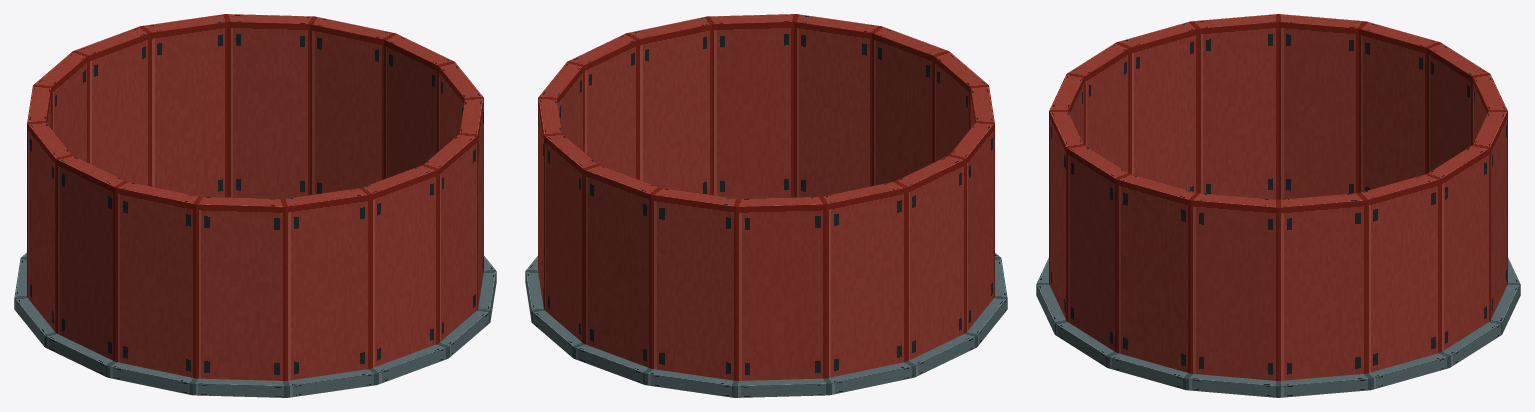
Rendered from detail_chimney_red.obj.
The picture shows the model from 3 angles, left to right: view 1: azimuth 30°, elevation 25°; view 2: azimuth 150°, elevation 25°; view 3: azimuth 270°, elevation 25°; orthographic projection.
Size of the model in its own units: 2.38 by 1 by 2.38.
